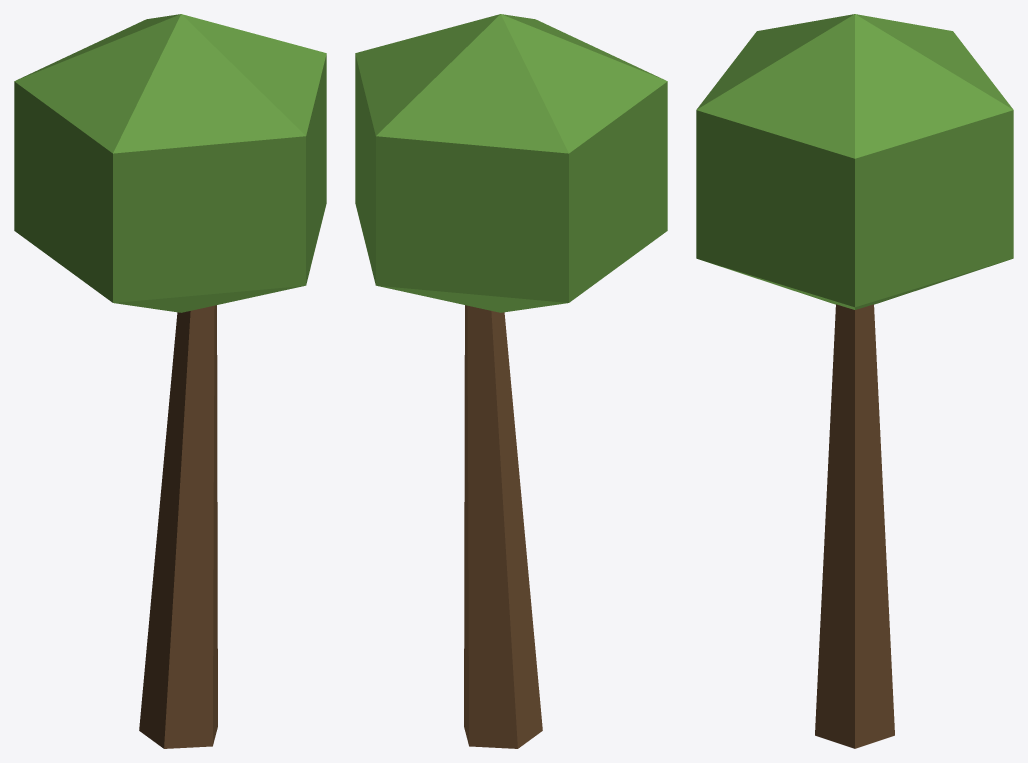
The model's file is tree_tall_lod2.obj.
3 renders of one model, left to right at view 1: azimuth 30°, elevation 25°; view 2: azimuth 150°, elevation 25°; view 3: azimuth 270°, elevation 25°, orthographic.
Visible parts, largest first — view 1: tree_tall_lod2; view 2: tree_tall_lod2; view 3: tree_tall_lod2.
Part boxes in pixels (left/top/right/bottom): tree_tall_lod2: left=14, top=14, right=326, bottom=748; tree_tall_lod2: left=355, top=14, right=667, bottom=748; tree_tall_lod2: left=696, top=14, right=1013, bottom=748.
Bounding box in the file's own units: 2.51 × 6.57 × 2.64.
1 material, 1 textured.
